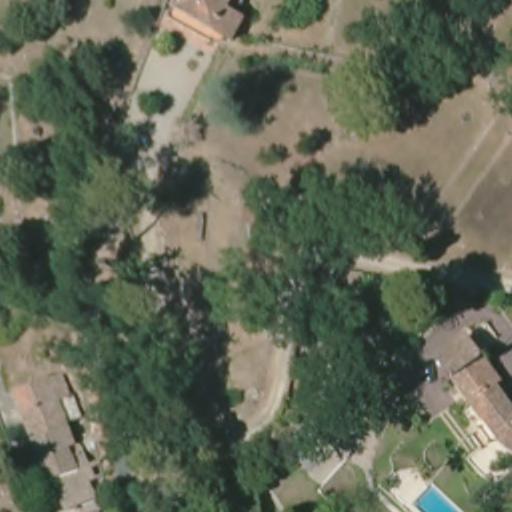pool: (408, 475, 461, 510)
